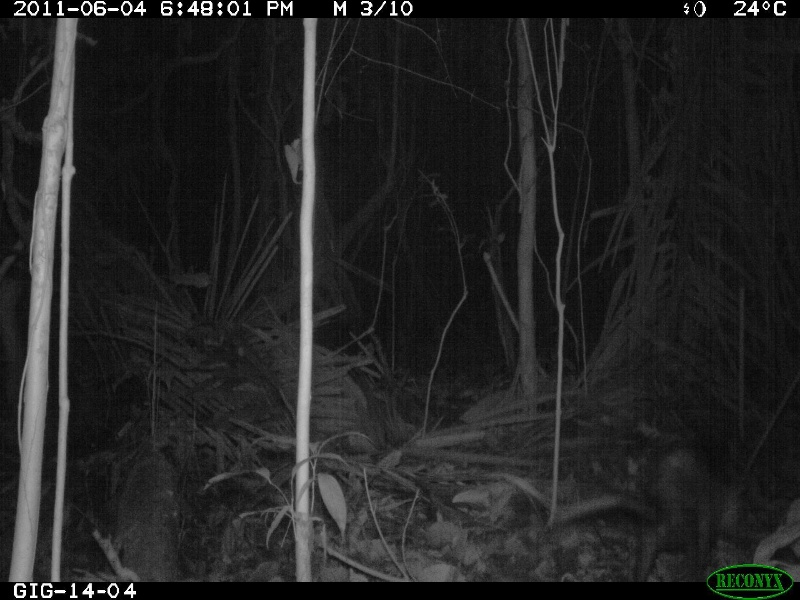opossum: (560, 442, 737, 570)
